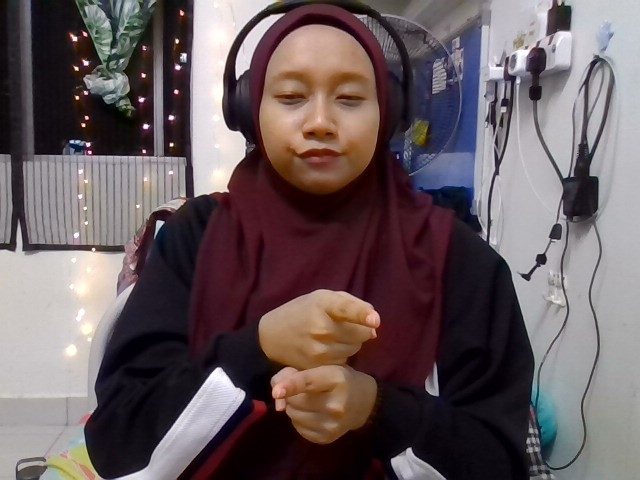Betul: (269, 286, 380, 446)
